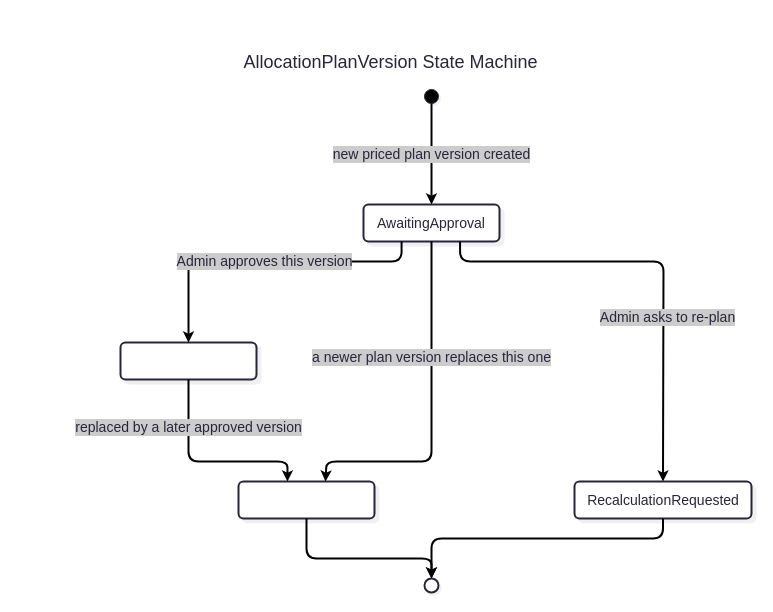
The diagram is 773 pixels wide and 612 high, and some of its shapes have lost their labels. Each missing label, with the centre of its shape:
"Approved" belongs at pixel 190 362.
"Superseded" belongs at pixel 308 501.
